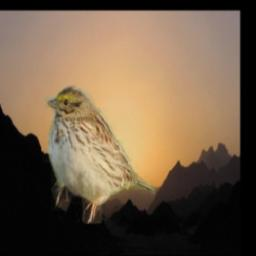Sparrow: (42, 82, 156, 224)
